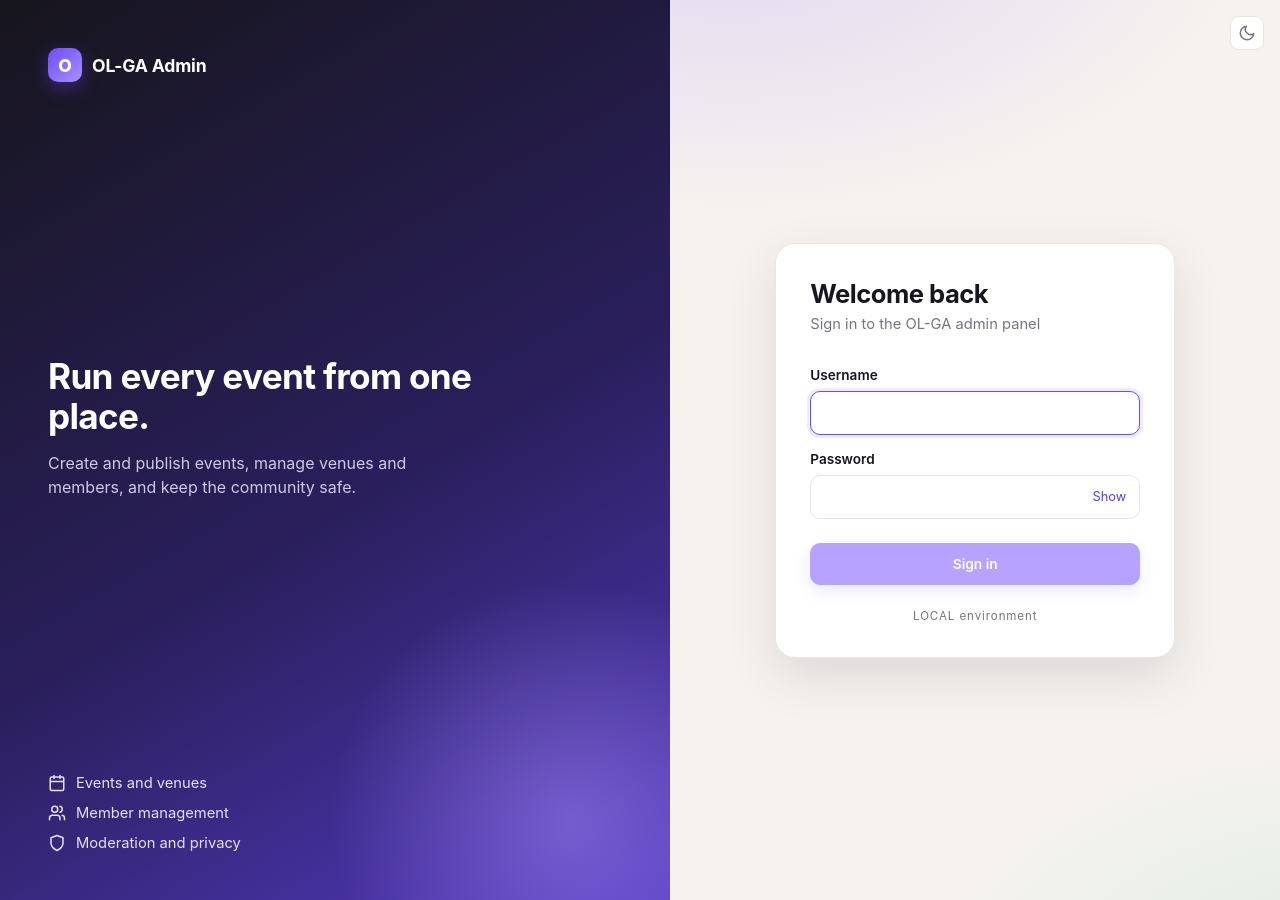
Scenario: LoginPage (basic) › rejects a wrong password
This screenshot has width=1280, height=900.
Type "olgaadmin" into the field labelled "Username" at [975, 412], box [810, 390, 1140, 434]
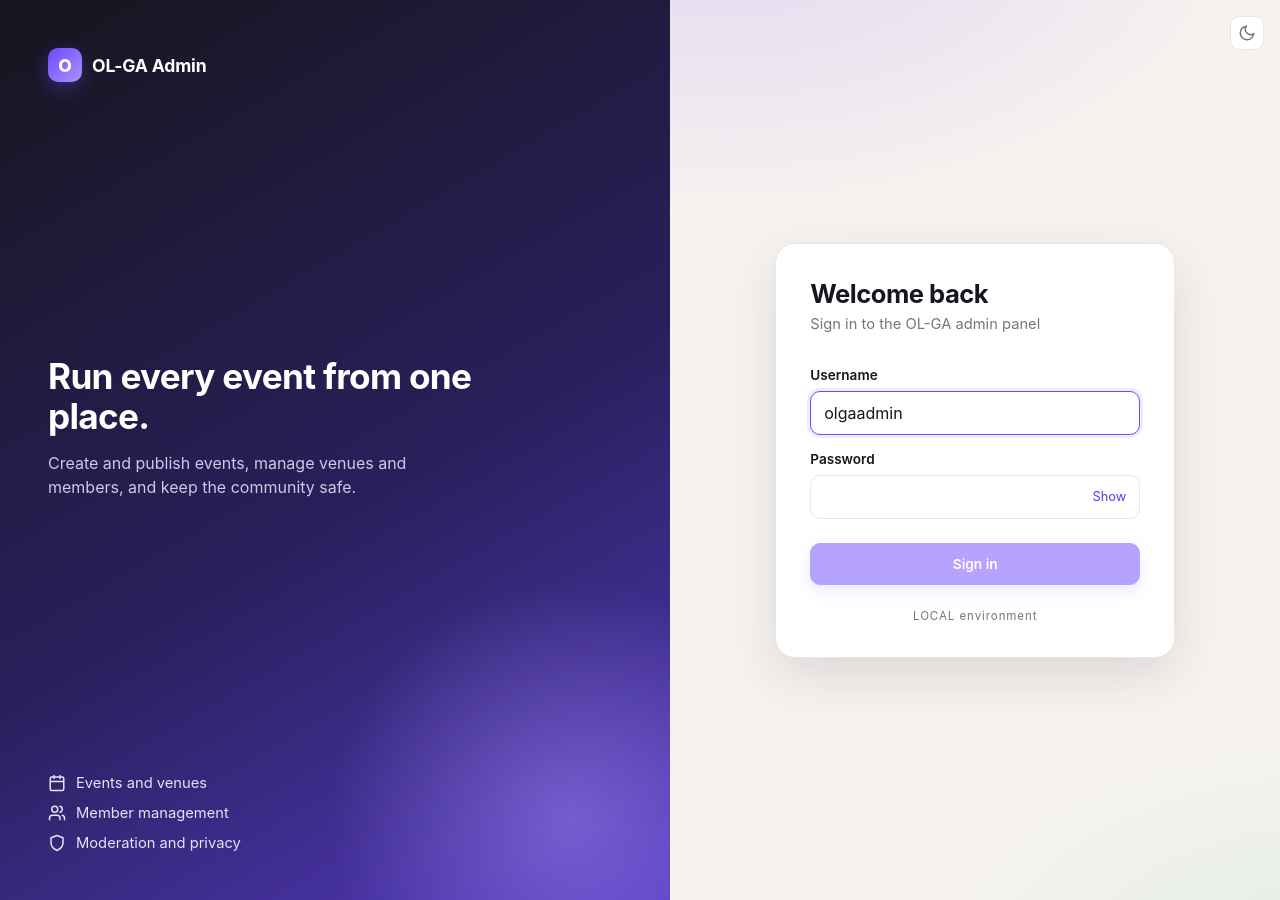
Type "wrong" into the password field labelled "Password" at [975, 496], box [810, 474, 1140, 518]
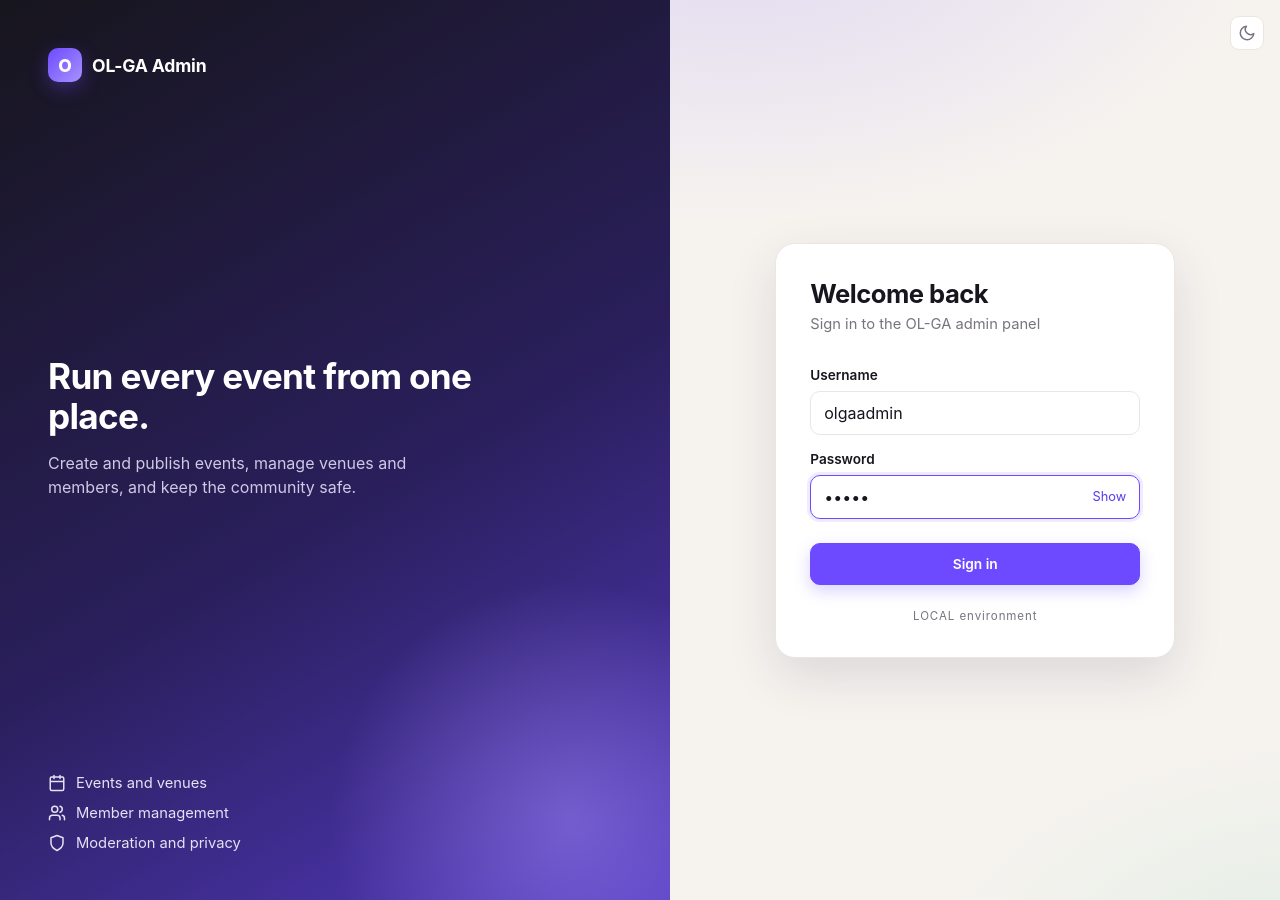
Click the button "Sign in" at [975, 564], box [810, 542, 1140, 584]
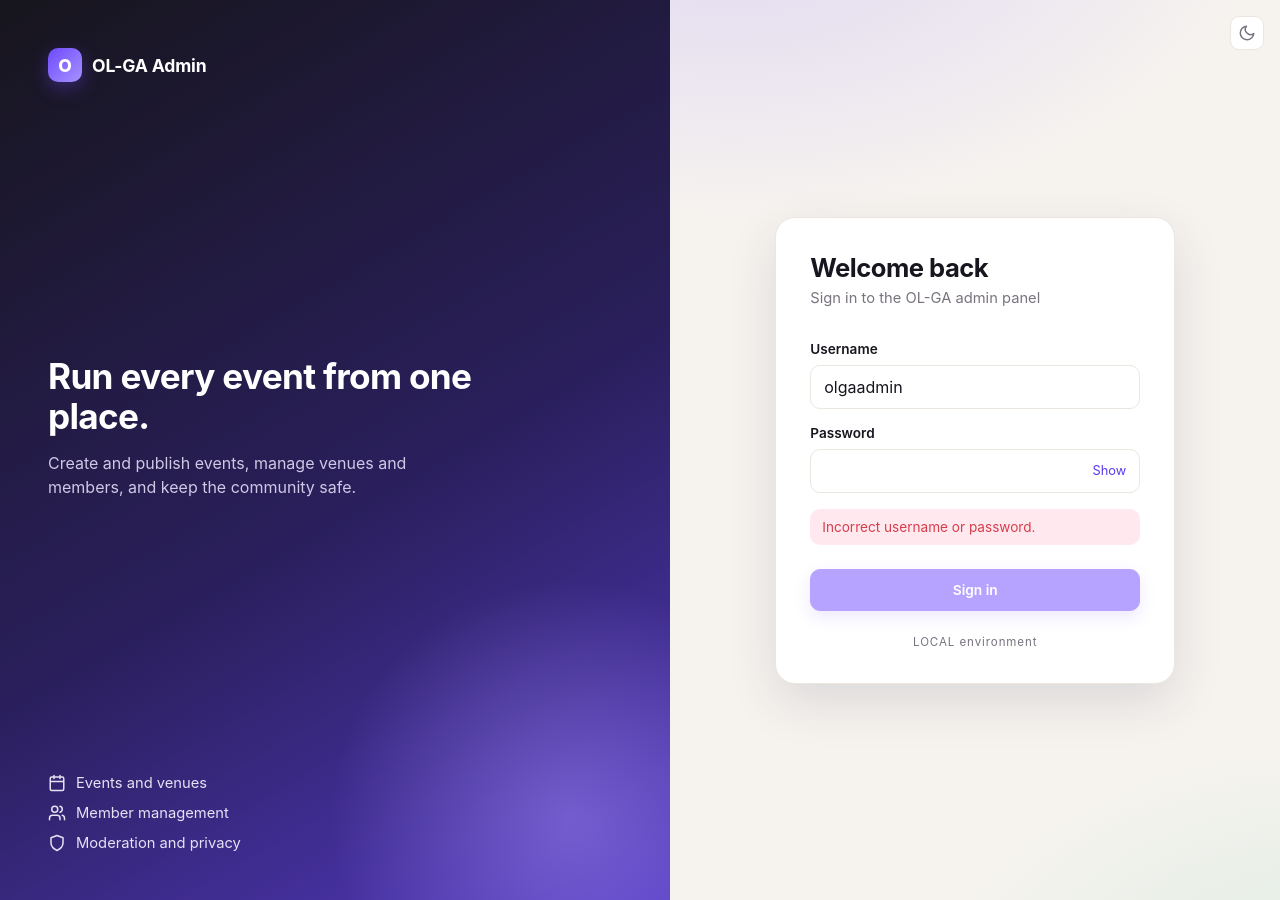
Check: the message shows "Incorrect username or password", box [822, 518, 1036, 534]
